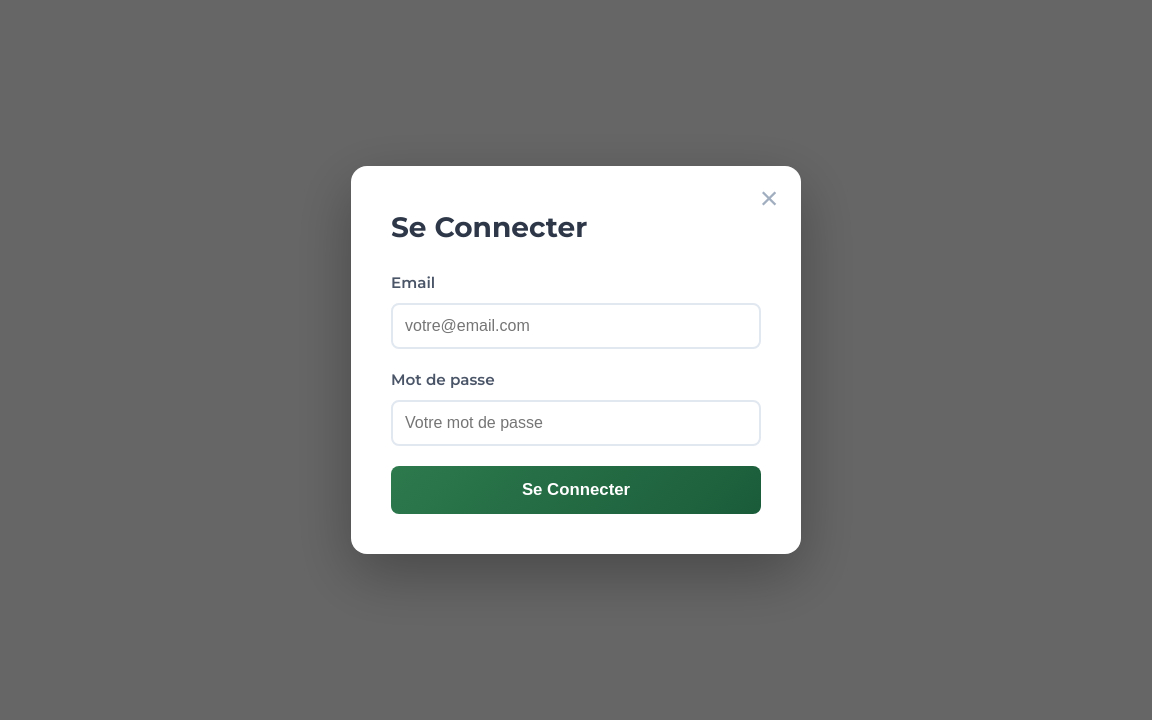
Test case: LoginModal Component › shows error message when login fails
Type "test@example.com" into the field with placeholder "votre@email.com". click: (576, 326)
box: [391, 303, 761, 349]
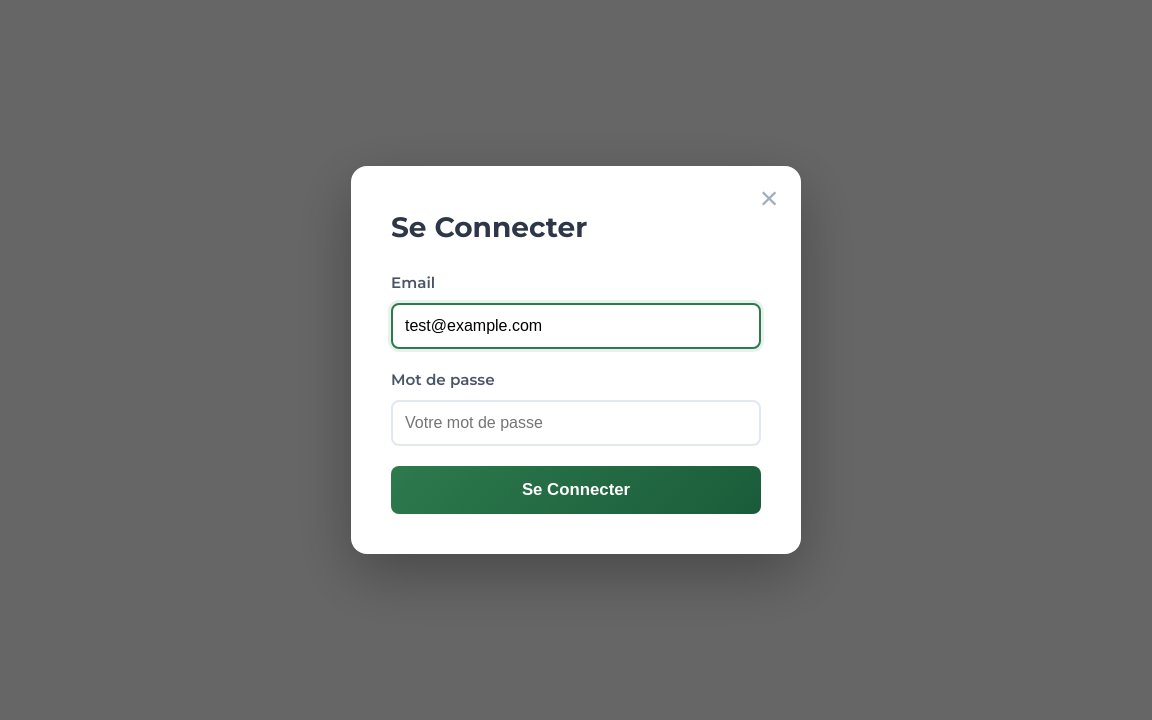
Type "wrongpassword" into the password field with placeholder "Votre mot de passe". click: (576, 423)
box: [391, 400, 761, 446]
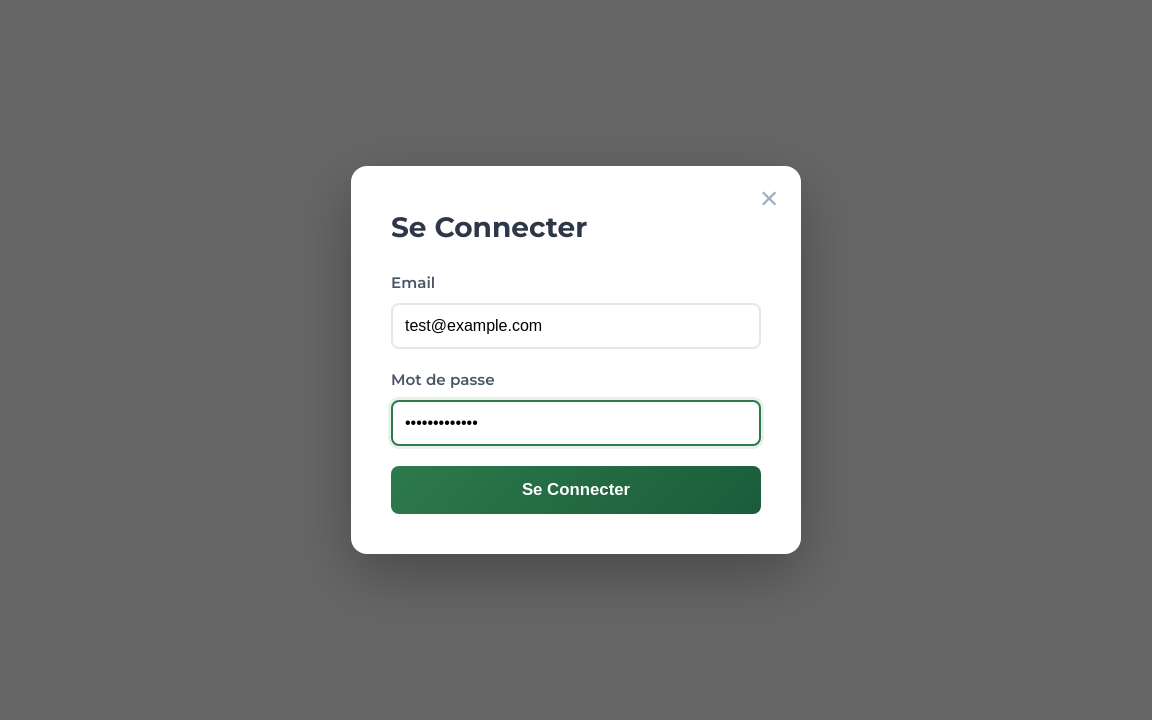
Click the button "Se Connecter". click: (576, 490)
box: [391, 466, 761, 514]
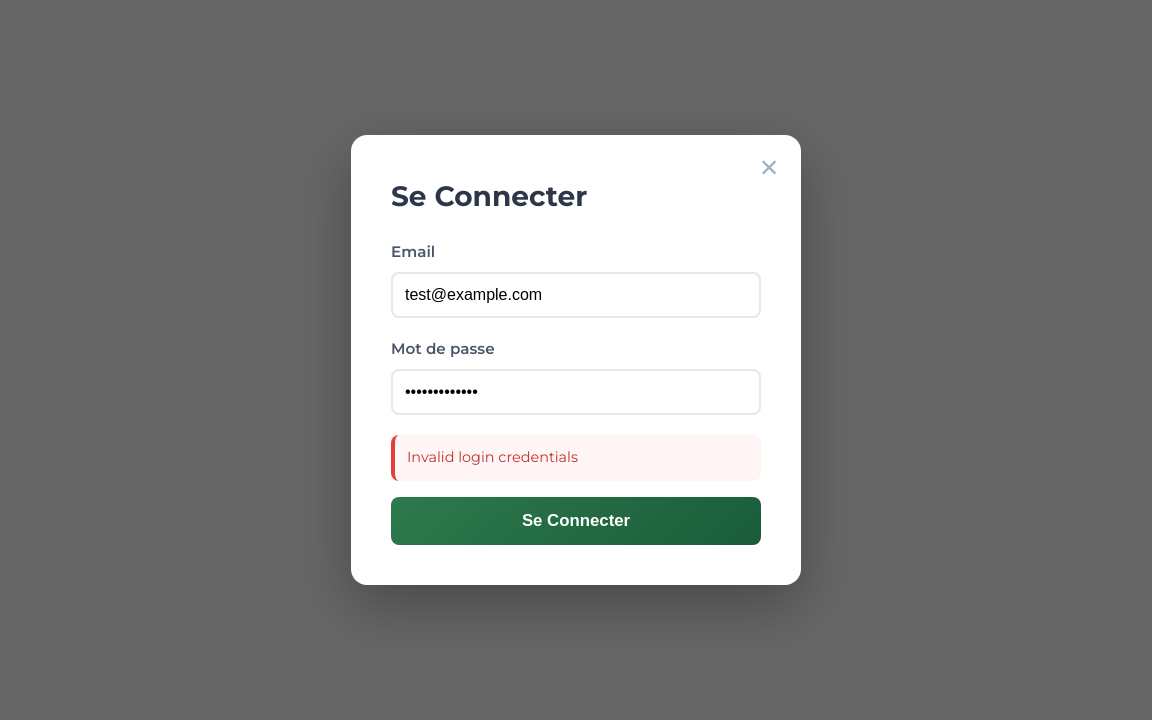
Now the text "Invalid login credentials" is shown, box [391, 435, 761, 481]
